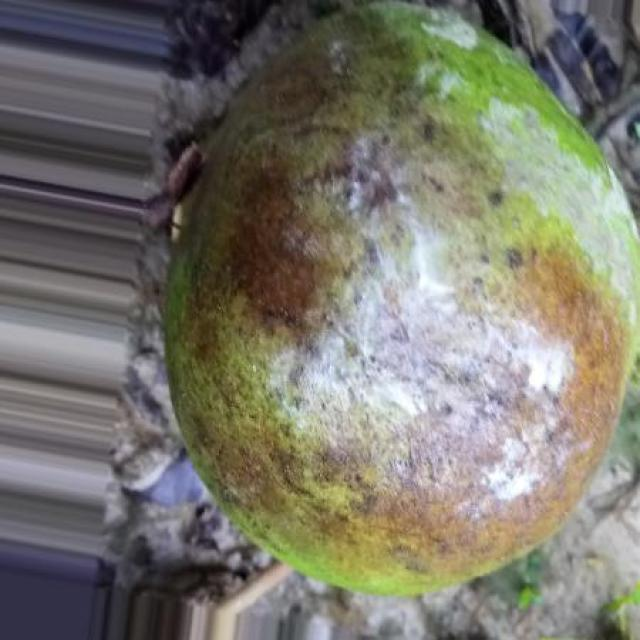Phytopthora: (168, 75, 639, 593)
